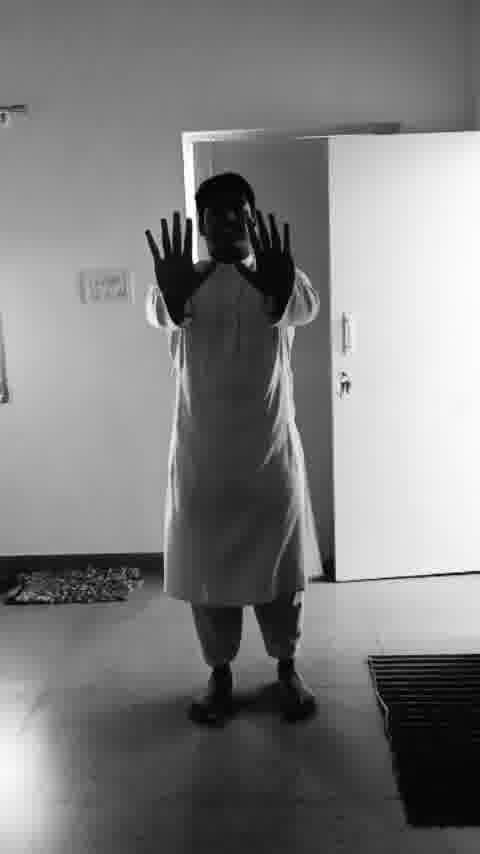duck: (136, 168, 352, 746)
